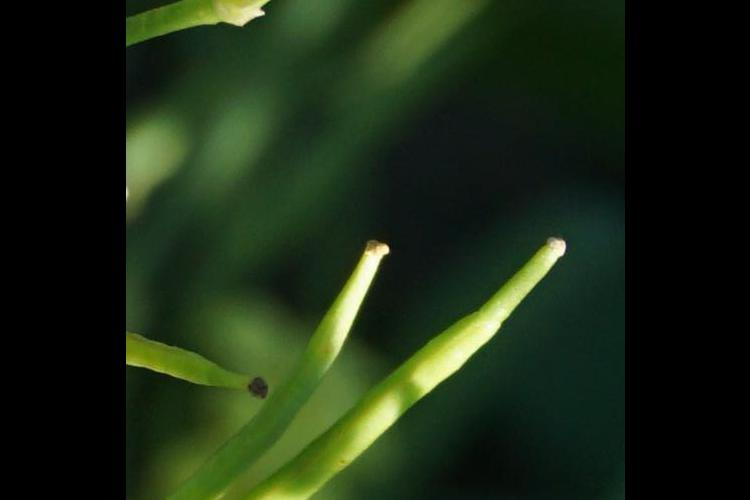pod: (143, 224, 573, 500), (128, 216, 393, 500), (136, 324, 268, 411)
